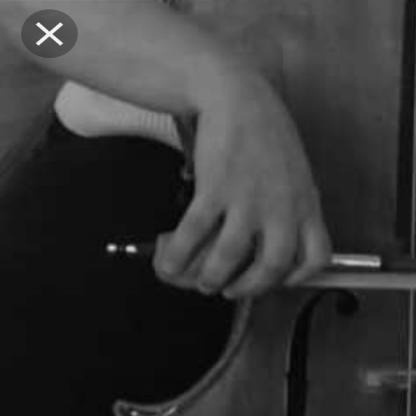good: (142, 166, 346, 302)
